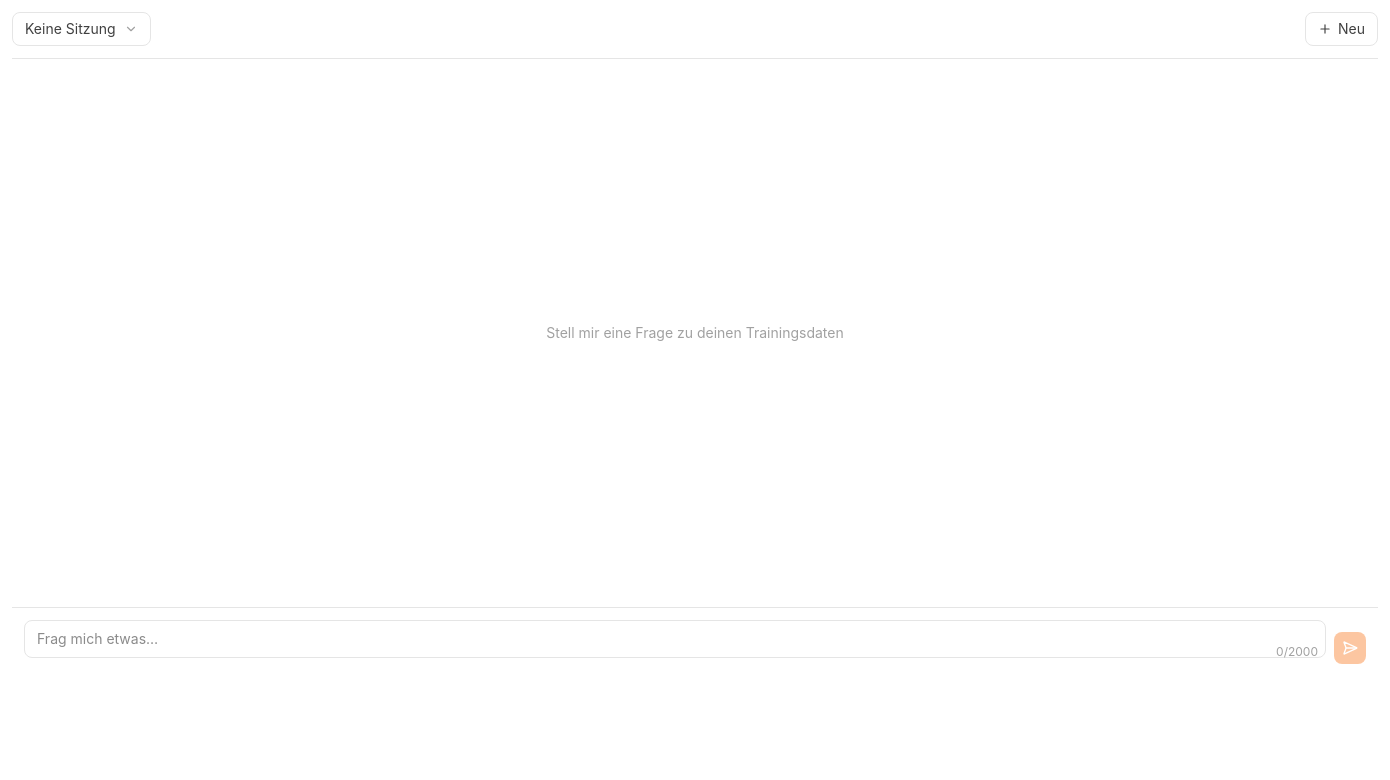
Test: ChatPage › keeps streamed messages when the first session is auto-created
Type "Bitte vorbereiten" into the text box with placeholder "Frag mich etwas…" at coordinates (675, 639), box [24,620,1326,658]
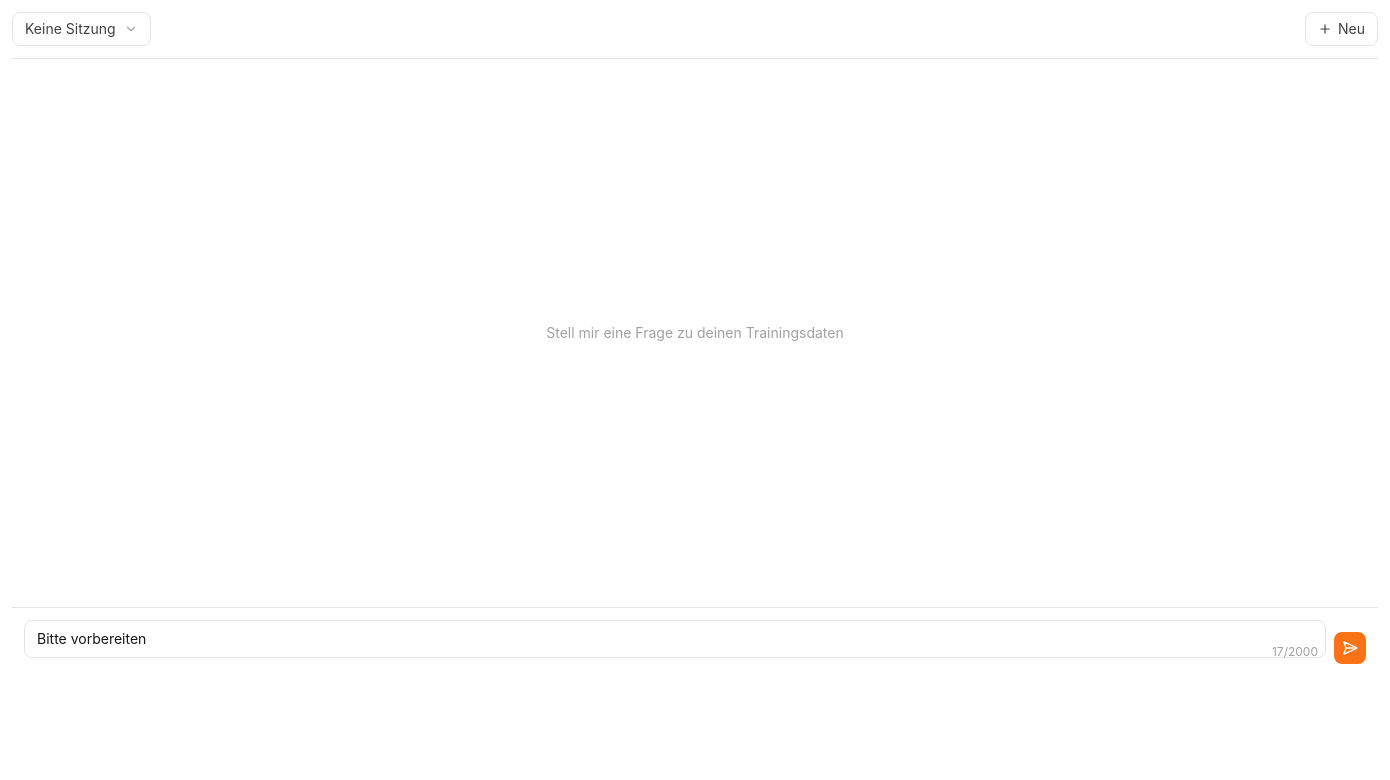
Press Enter in the text box with placeholder "Frag mich etwas…", box [24,620,1326,658]
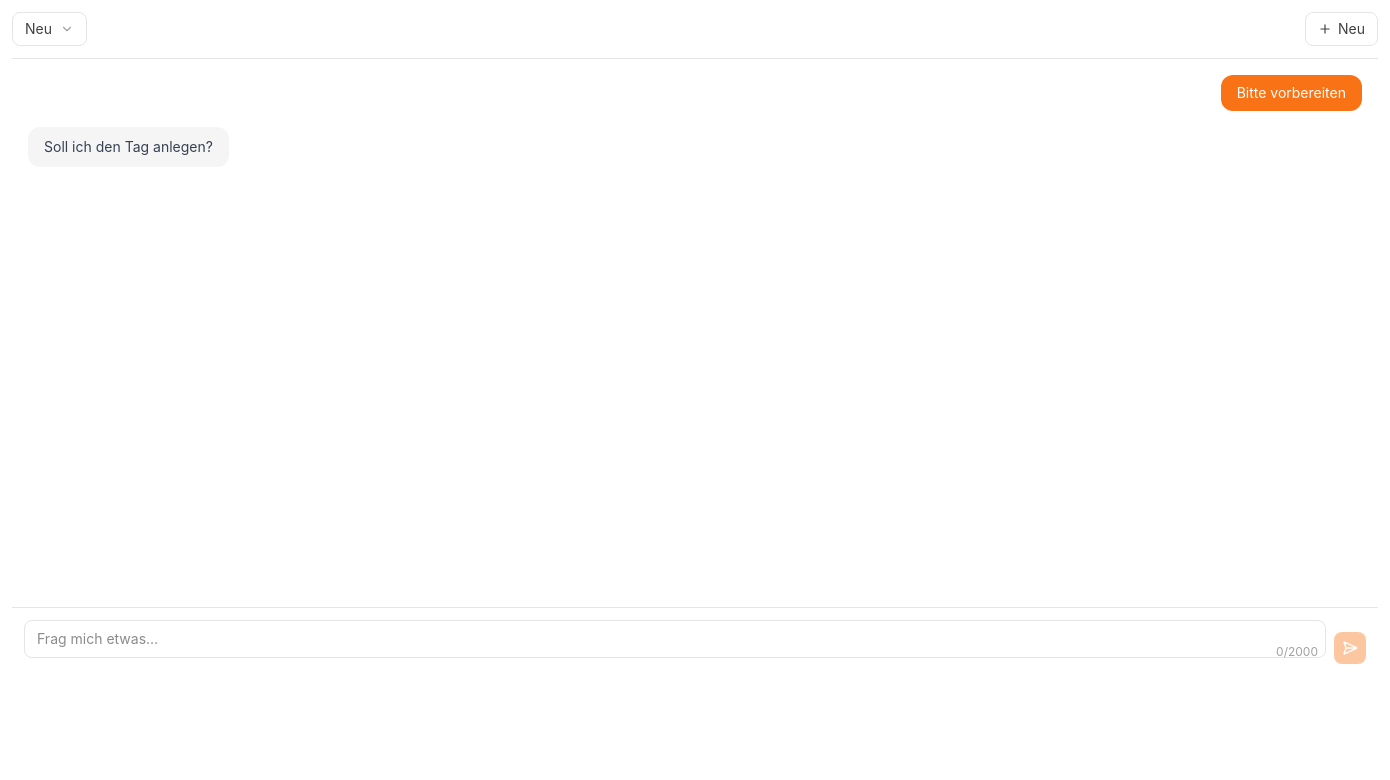
expect the text "Soll ich den Tag anlegen?" is shown: met, box [44,135,213,159]
